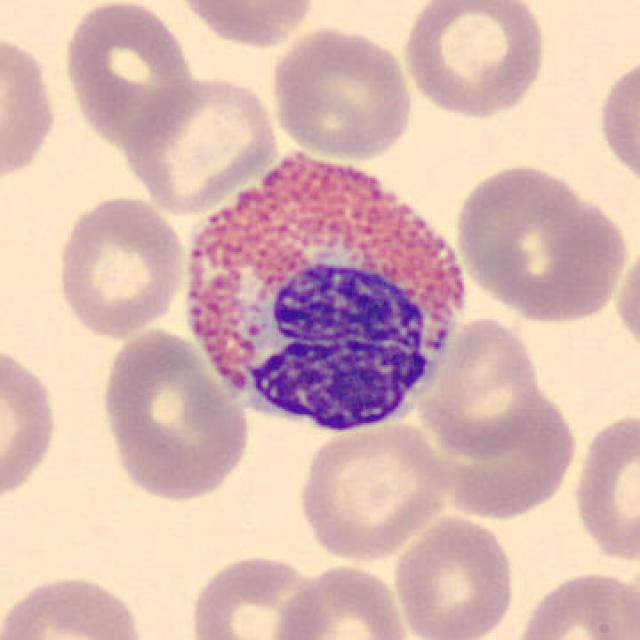Eosinophil: (167, 126, 480, 452)
RBC: (452, 161, 630, 326), (94, 324, 254, 506), (294, 416, 454, 564), (119, 71, 281, 215), (268, 23, 418, 162), (59, 0, 199, 148), (52, 190, 190, 340), (414, 312, 548, 462), (436, 386, 577, 527), (398, 0, 550, 122), (389, 511, 519, 640), (185, 550, 327, 640), (268, 560, 412, 640), (569, 406, 640, 568), (0, 569, 153, 640), (0, 338, 60, 509), (0, 26, 60, 192), (508, 566, 638, 640), (170, 0, 318, 49), (594, 49, 638, 196), (611, 233, 640, 365)
